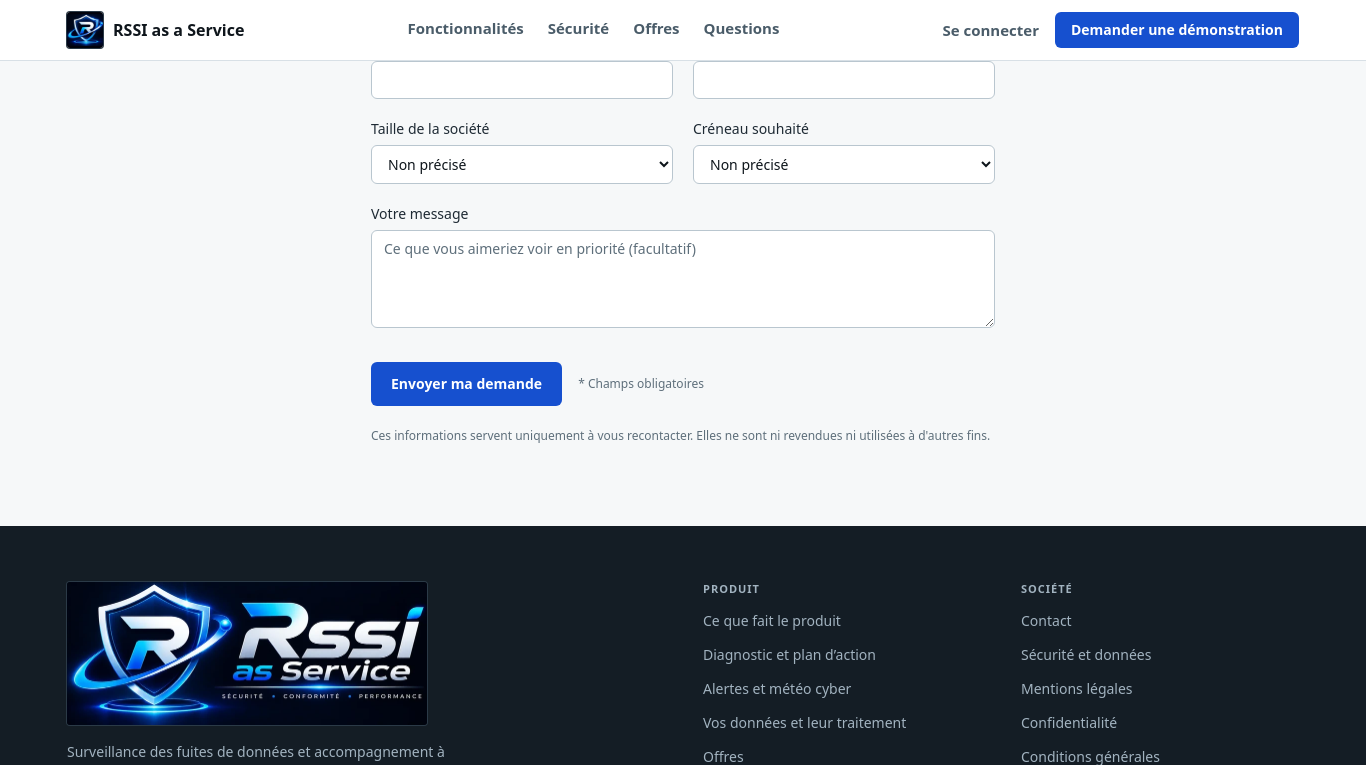
DemoRequestPage › validation côté client › efface l’erreur d’un champ dès sa correction
(page scrolled)
Click the button "Envoyer ma demande" at {"x": 467, "y": 384}, box x1=371 y1=362 x2=562 y2=406
(page scrolled)
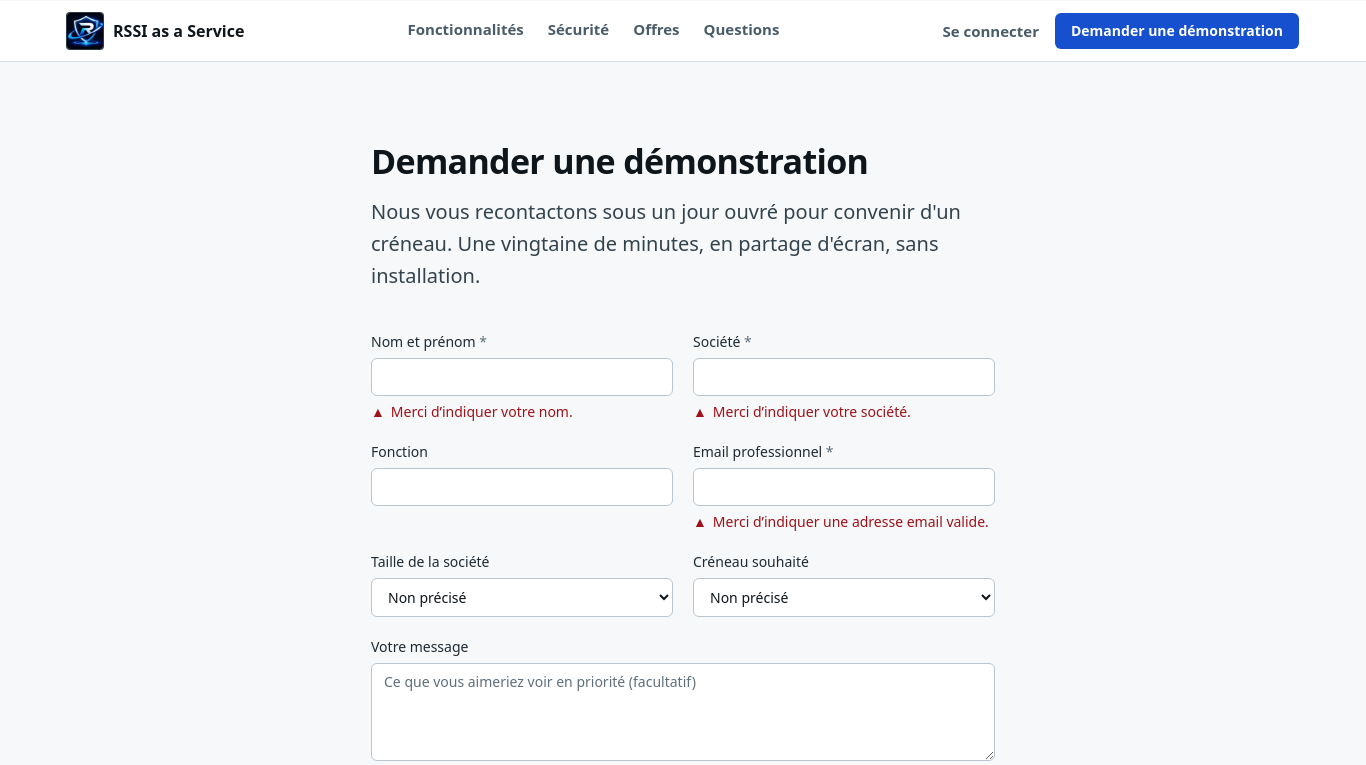
Result: the text "▲ Merci d’indiquer votre nom." is shown at x1=371 y1=402 x2=573 y2=421
Type "Marie" into the field labelled "Nom et prénom *" at {"x": 522, "y": 377}, box x1=371 y1=358 x2=673 y2=396
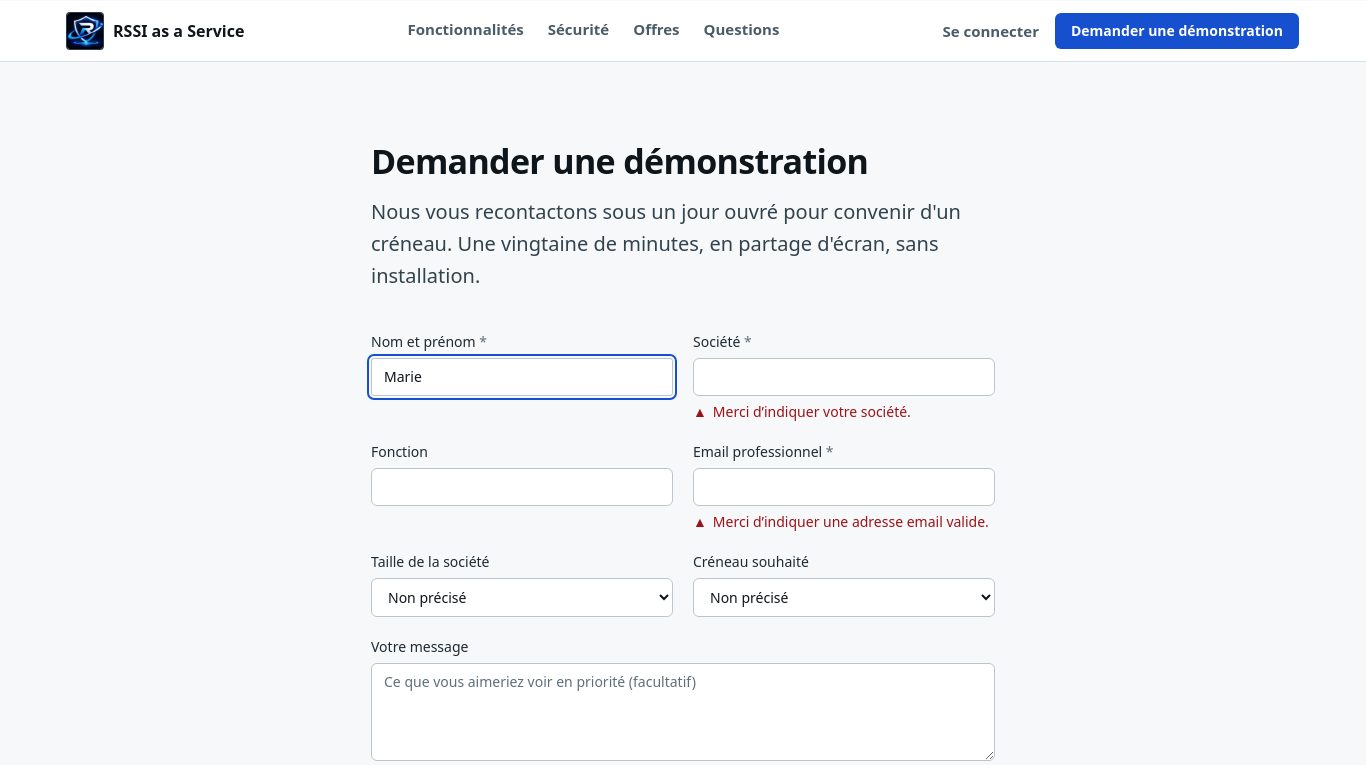
Result: the text "Merci d’indiquer votre nom" is gone
